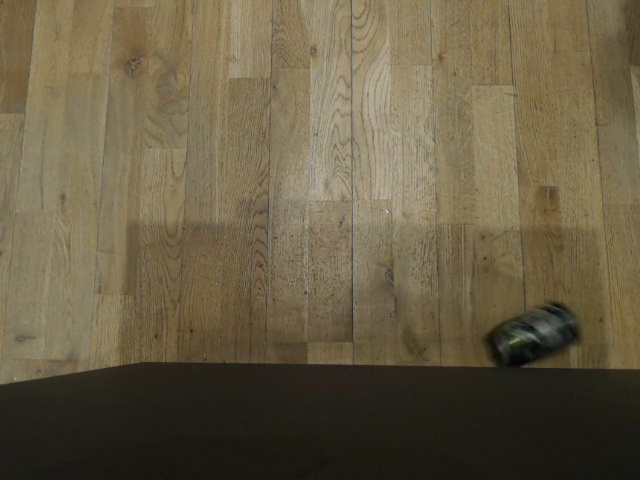beer: (481, 287, 586, 369)
